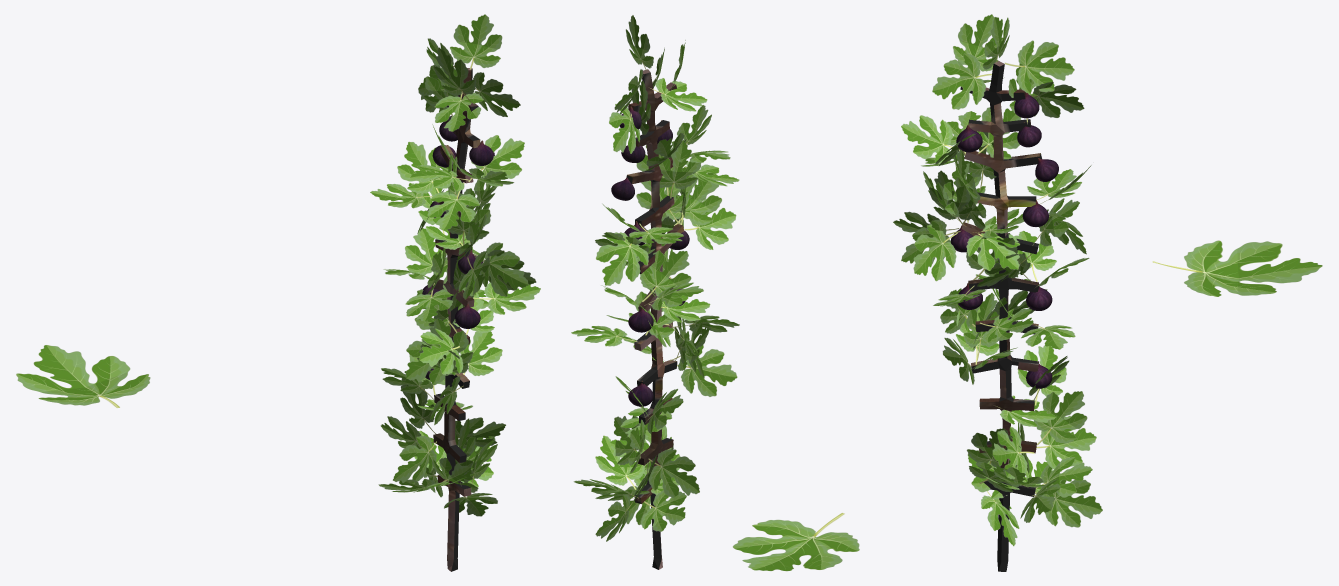
Rendered from Fig.glb.
The picture shows the model from 3 angles, left to right: view 1: azimuth 30°, elevation 25°; view 2: azimuth 150°, elevation 25°; view 3: azimuth 270°, elevation 25°; orthographic projection. The views are drawn at different scales.
Parts seen in each view (by area): view 1: fig (×27), Cube; view 2: fig (×37), Cube, fig whole 1_fig outside_0.005, fig whole 1_fig outside_0.006, fig whole 1; view 3: fig (×36), Cube.
Boxes of the visible parts, x1=… form: fig (×27): x1=16, y1=14, x2=540, y2=516; Cube: x1=432, y1=68, x2=480, y2=571; fig (×37): x1=571, y1=15, x2=859, y2=571; Cube: x1=626, y1=69, x2=684, y2=569; fig whole 1_fig outside_0.005: x1=628, y1=308, x2=653, y2=332; fig whole 1_fig outside_0.006: x1=628, y1=380, x2=653, y2=406; fig whole 1: x1=611, y1=177, x2=634, y2=200; fig (×36): x1=901, y1=14, x2=1322, y2=546; Cube: x1=960, y1=61, x2=1041, y2=571.
Size of the model in its own units: 2.37 by 3.33 by 2.29.
11 materials, 11 textured.
